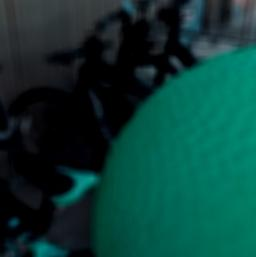algae: (104, 37, 256, 257)
